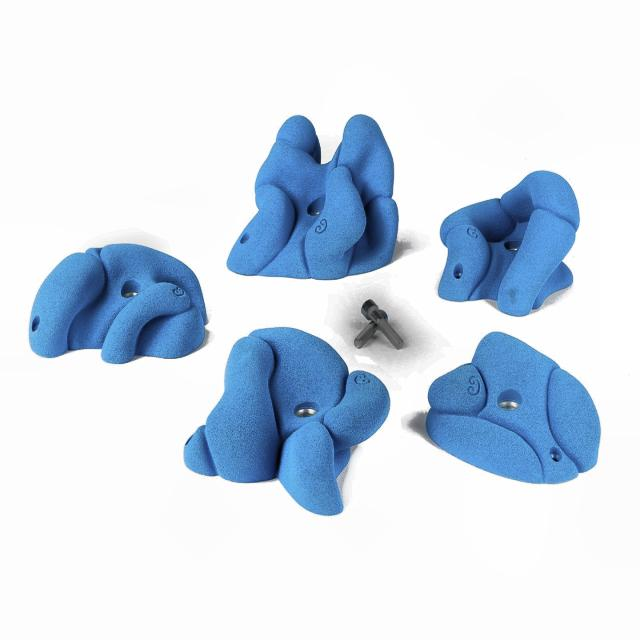Hold: (179, 327, 391, 518), (231, 112, 400, 280), (427, 329, 601, 485), (440, 166, 579, 321), (29, 246, 207, 362)
